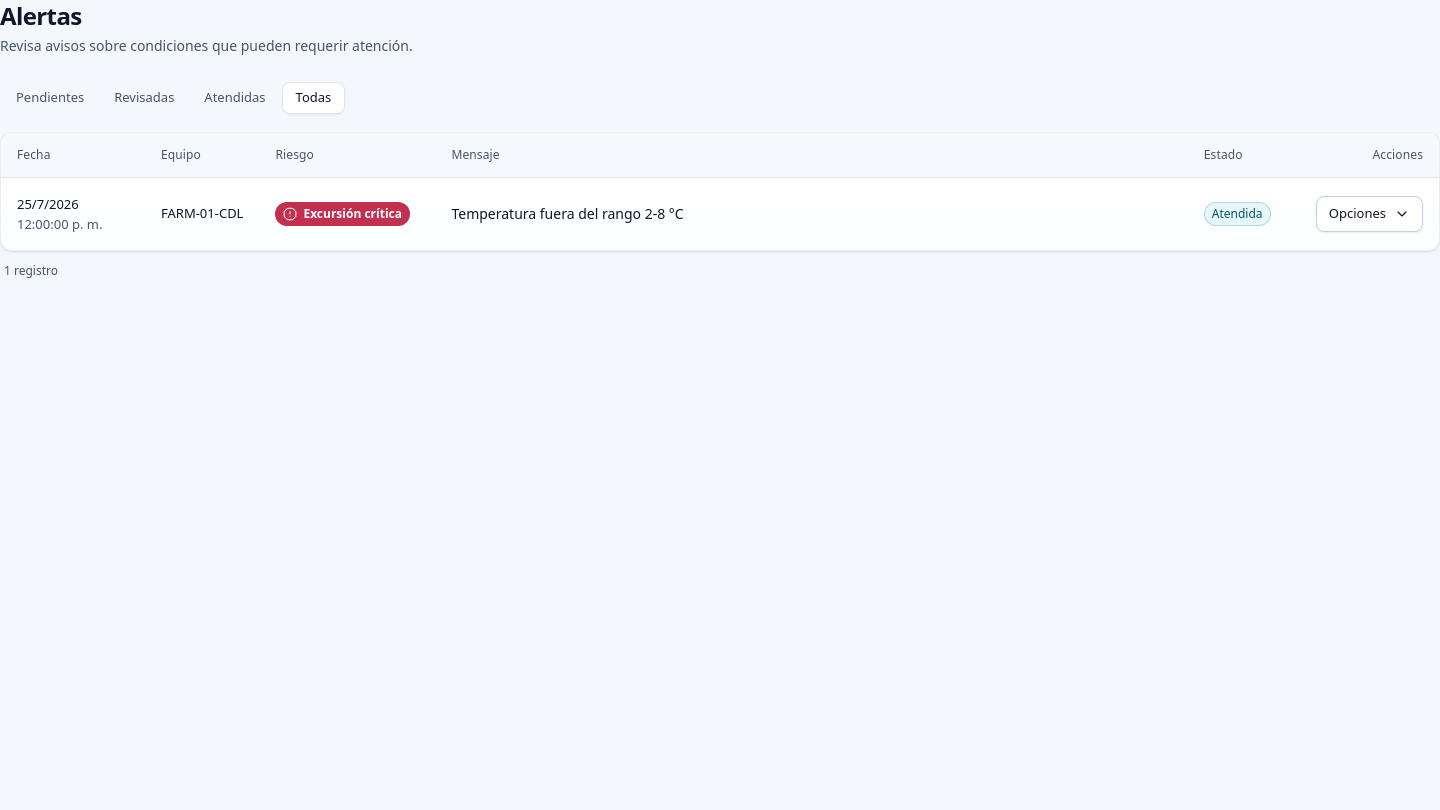
Scenario: AlertasPage — HU-28: rectificación trazable › muestra nombres, la acción rectificada y el motivo de la rectificación
The width and height of the screenshot is (1440, 810).
Click the button "Opciones". click: coordinates (1369, 214)
box: top-left (1316, 196), bottom-right (1423, 232)
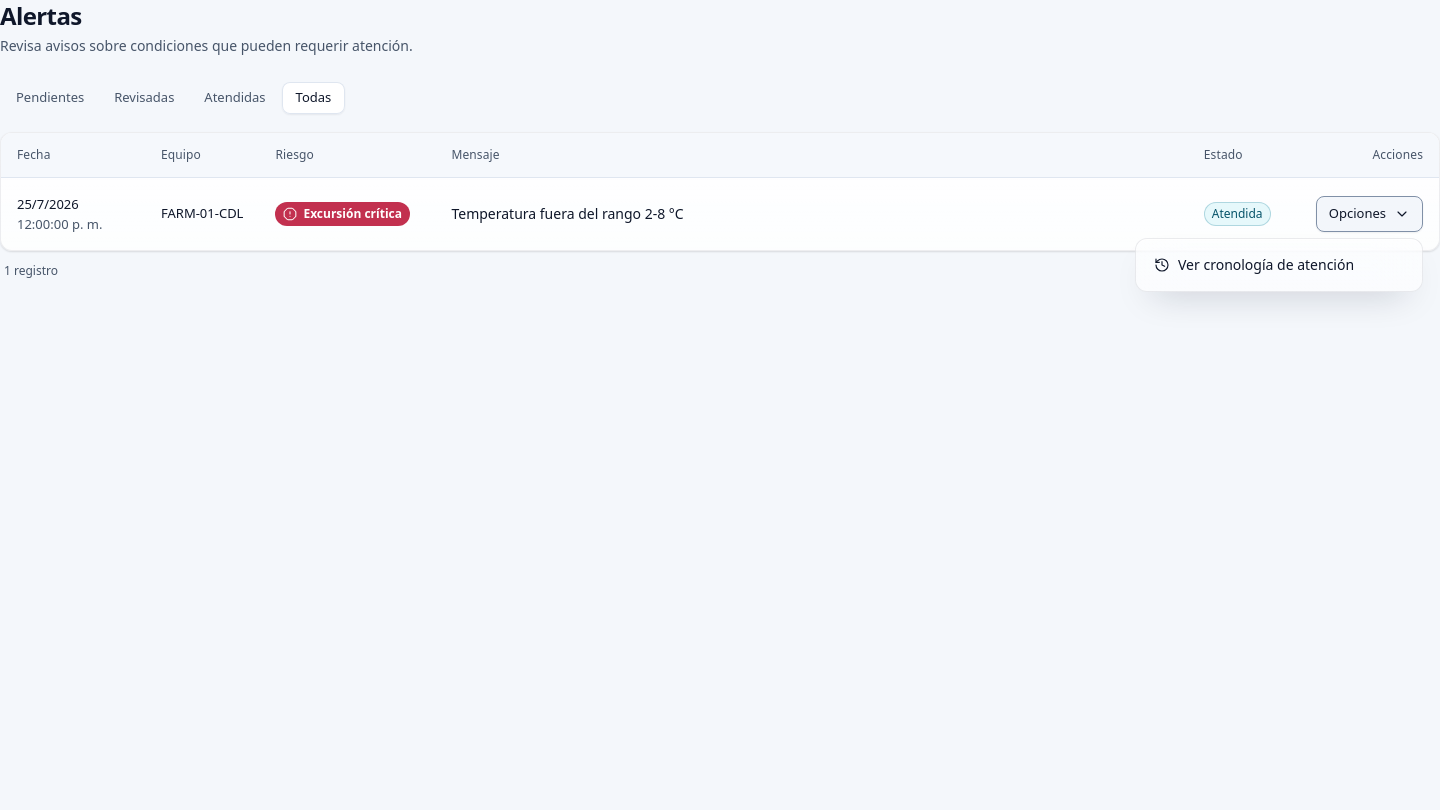
Click the menu item with aria-label "FARM-01-CDL". click: coordinates (1279, 265)
box: top-left (1142, 245), bottom-right (1416, 285)
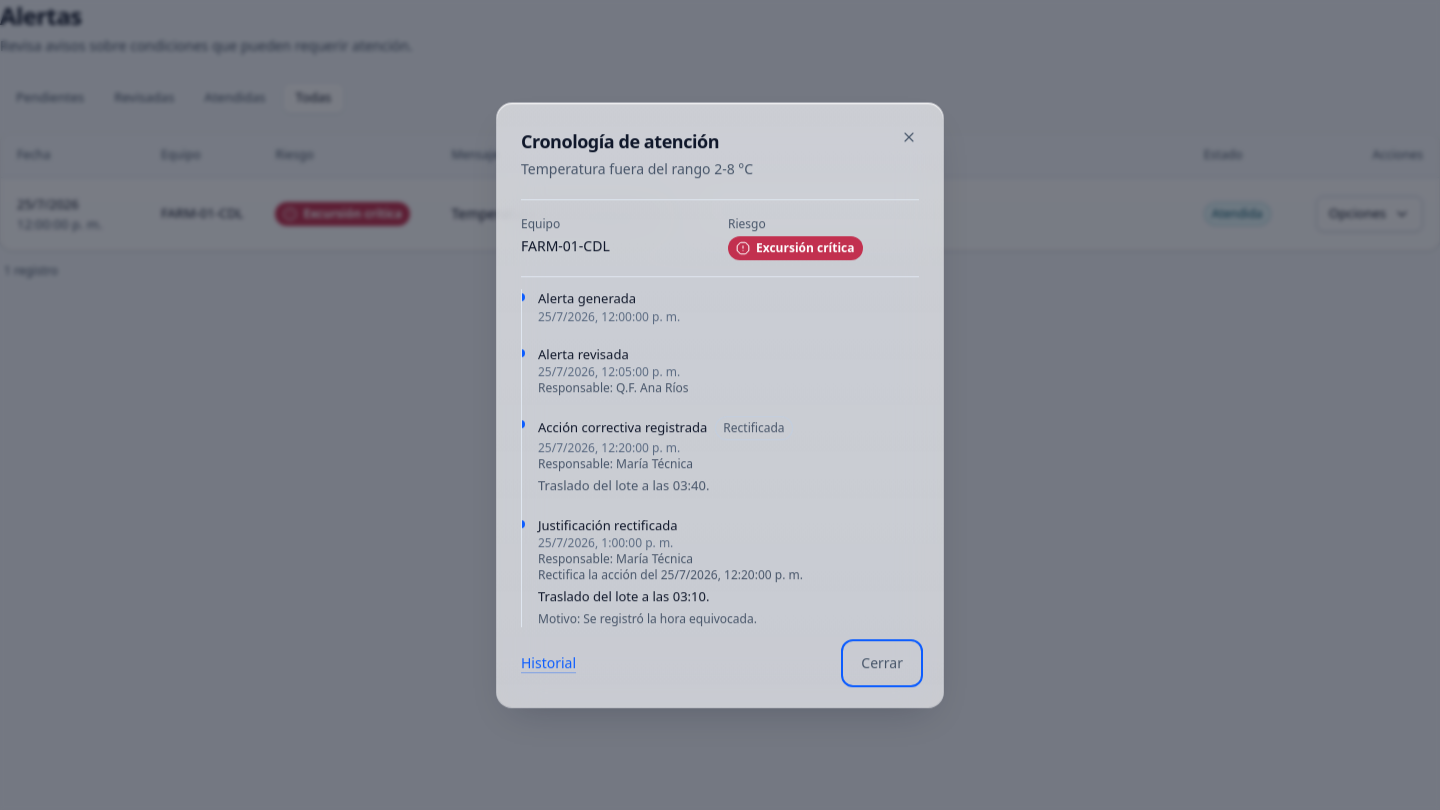
Expected: the text "Responsable: Q.F. Ana Ríos" is shown, top-left (538, 379), bottom-right (689, 396)
Expected: the text "Responsable: María Técnica" is shown 2 times, top-left (538, 455), bottom-right (693, 472); top-left (538, 550), bottom-right (693, 567)
Expected: the text "Rectificada" is shown, top-left (715, 416), bottom-right (793, 440)
